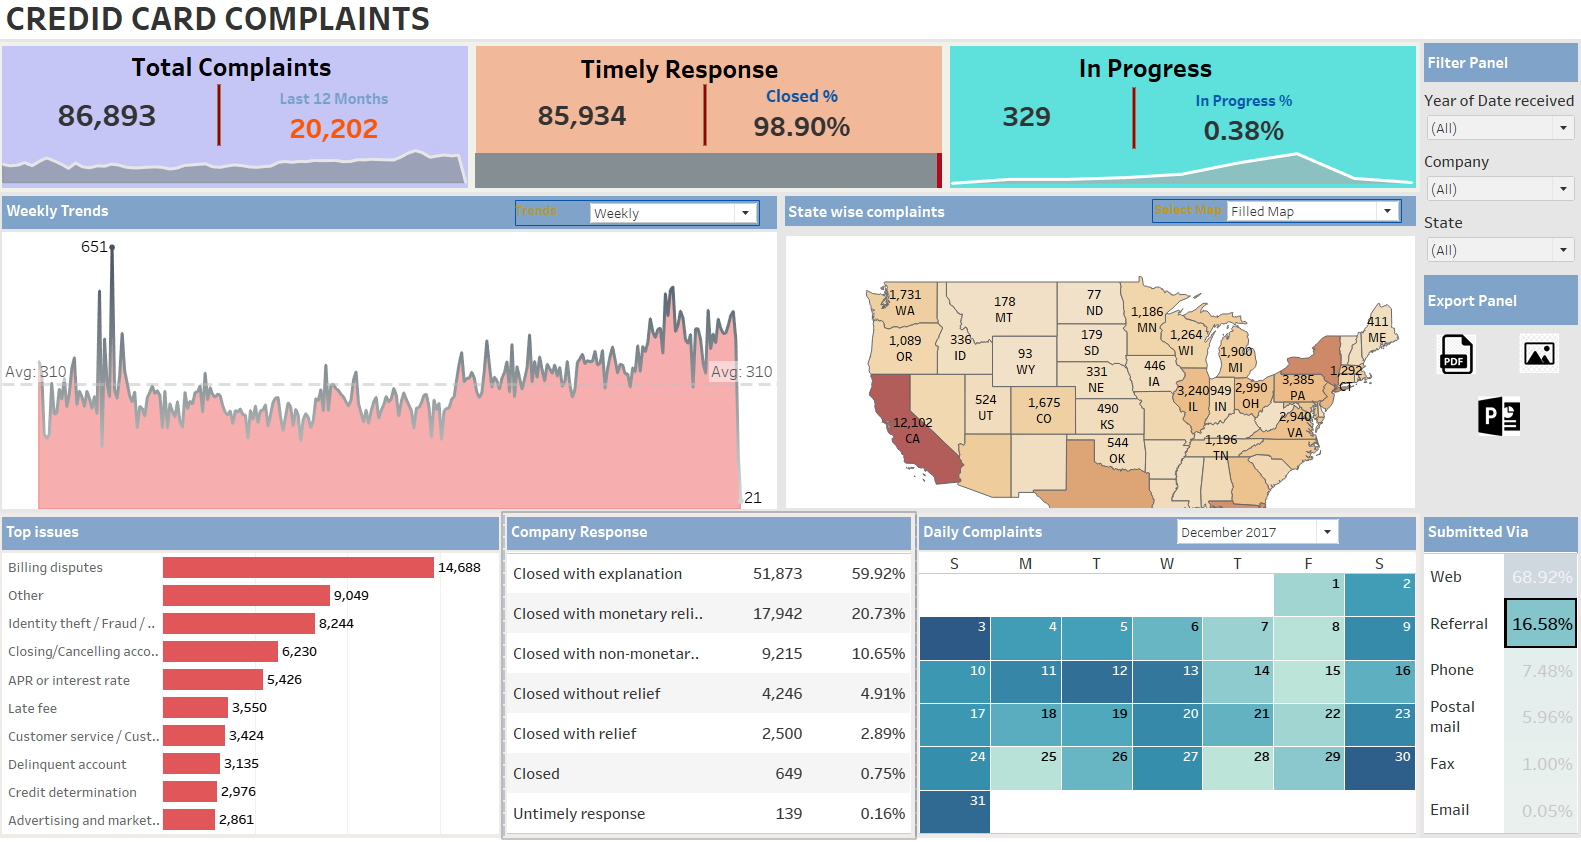

The dashboard page shown, as its layout file describes it:
{"tool":"tableau","page":{"name":"Dashboard 1","canvas":[1600,860],"ordinal":0},"visuals":[{"type":"title","box":[8,8,1422,45]},{"type":"blank","box":[1430,8,162,45]},{"type":"text","box":[1430,53,162,47]},{"type":"blank","box":[8,56,474,150]},{"type":"blank","box":[482,56,474,150]},{"type":"blank","box":[956,56,474,150]},{"type":"text","box":[84,62.1,315,35.4]},{"type":"text","box":[1044,63.1,223,35.4]},{"type":"text","box":[578,64,223,35.4]},{"type":"worksheet","title":"Closed %","mark":"Automatic","box":[741,97.5,142,62.1]},{"type":"blank","box":[227,98.4,4,62.1]},{"type":"blank","box":[713,98.4,4,62.1]},{"type":"filter","title":"Daily Complaints","param":"[federated.10nrtzm0ths3a51fq9lgi0ghdnky].[yr:Date received:ok]","box":[1430,100,162,61]},{"type":"worksheet","title":"Rolling 12 Months Complaints","mark":"Automatic","box":[255,100.3,178,62.1]},{"type":"blank","box":[1142,101.3,4,62.1]},{"type":"worksheet","title":"In Progress %","mark":"Automatic","box":[1181,102.4,146,60.9]},{"type":"worksheet","title":"Total Complaints","mark":"Automatic","box":[38,106.1,158,43]},{"type":"worksheet","title":"Timely Response","mark":"Automatic","box":[527,106.1,130,44]},{"type":"worksheet","title":"In Progress Complaints","mark":"Automatic","box":[988,108.9,97,40.1]},{"type":"worksheet","title":"Progress Bar","mark":"Bar","cols":["Calculation_207728549485891590","Calculation_207728549484265476"],"box":[485,160.5,490,45.9]},{"type":"filter","title":"Company Response","param":"[federated.10nrtzm0ths3a51fq9lgi0ghdnky].[none:Company:nk]","box":[1430,161,162,61]},{"type":"worksheet","title":"In Progress Spark Line","mark":"Area","rows":["Calculation_207728549487292423","Calculation_207728549487292423"],"cols":["Date received"],"box":[937,164.4,509,36.3]},{"type":"worksheet","title":"Trends","mark":"Automatic","rows":["Number of Records","Number of Records"],"cols":["Calculation_615585793418661889"],"box":[8,206.4,782.7,321.1]},{"type":"text","box":[790.7,206.4,639.3,38]},{"type":"parameter","param":"[Parameters].[Parameter 3]","box":[1162,213,250,24]},{"type":"parameter","param":"[Parameters].[Parameter 2]","box":[525,214,245,26]},{"type":"filter","title":"Filled Map","param":"[federated.10nrtzm0ths3a51fq9lgi0ghdnky].[none:State:nk]","box":[1430,222,162,61]},{"type":"worksheet","title":"Density Map","mark":"Heatmap","box":[790.7,244.4,639.3,1]},{"type":"worksheet","title":"Filled Map","mark":"Multipolygon","box":[790.7,245.4,639.3,282.1]},{"type":"text","box":[1430,285.4,162,58]},{"type":"blank","box":[1430,343.4,162,184]},{"type":"dashboard-object","box":[1521,346.9,56,40.1]},{"type":"dashboard-object","box":[1438,347.8,56,40.1]},{"type":"dashboard-object","box":[1481,409.9,56,40.1]},{"type":"worksheet","title":"Submitted Via","mark":"Square","rows":["Submitted via"],"box":[1430,527.4,162,324.6]},{"type":"worksheet","title":"Top issues","mark":"Automatic","rows":["Issue"],"cols":["Number of Records"],"box":[8,527.5,505,324.5]},{"type":"worksheet","title":"Company Response","mark":"Automatic","rows":["Company response to consumer"],"box":[513,527.5,412,324.5]},{"type":"worksheet","title":"Daily Complaints","mark":"Square","rows":["Date received"],"cols":["Date received"],"box":[925,527.5,505,324.5]},{"type":"filter","title":"Daily Complaints","param":"[federated.10nrtzm0ths3a51fq9lgi0ghdnky].[my:Date received:ok]","box":[1184,530.3,168,30.6]}]}

Visuals, with their boxes in screenshot pixels (x1, y1, x2, y2), scaled from the page's 1600x860 canvas onto the 1581x842 screenshot:
title: rect(8, 8, 1413, 52)
blank: rect(1413, 8, 1573, 52)
text: rect(1413, 52, 1573, 98)
blank: rect(8, 55, 476, 202)
blank: rect(476, 55, 945, 202)
blank: rect(945, 55, 1413, 202)
text: rect(83, 61, 394, 95)
text: rect(1032, 62, 1252, 96)
text: rect(571, 63, 791, 97)
"Closed %" worksheet: rect(732, 95, 873, 156)
blank: rect(224, 96, 228, 157)
blank: rect(705, 96, 708, 157)
"Daily Complaints" filter: rect(1413, 98, 1573, 158)
"Rolling 12 Months Complaints" worksheet: rect(252, 98, 428, 159)
blank: rect(1128, 99, 1132, 160)
"In Progress %" worksheet: rect(1167, 100, 1311, 160)
"Total Complaints" worksheet: rect(38, 104, 194, 146)
"Timely Response" worksheet: rect(521, 104, 649, 147)
"In Progress Complaints" worksheet: rect(976, 107, 1072, 146)
"Progress Bar" worksheet (Bar marks): rect(479, 157, 963, 202)
"Company Response" filter: rect(1413, 158, 1573, 217)
"In Progress Spark Line" worksheet (Area marks): rect(926, 161, 1429, 196)
"Trends" worksheet: rect(8, 202, 781, 516)
text: rect(781, 202, 1413, 239)
parameter: rect(1148, 209, 1395, 232)
parameter: rect(519, 210, 761, 235)
"Filled Map" filter: rect(1413, 217, 1573, 277)
"Density Map" worksheet (Heatmap marks): rect(781, 239, 1413, 240)
"Filled Map" worksheet (Multipolygon marks): rect(781, 240, 1413, 516)
text: rect(1413, 279, 1573, 336)
blank: rect(1413, 336, 1573, 516)
dashboard-object: rect(1503, 340, 1558, 379)
dashboard-object: rect(1421, 341, 1476, 380)
dashboard-object: rect(1463, 401, 1519, 441)
"Submitted Via" worksheet (Square marks): rect(1413, 516, 1573, 834)
"Top issues" worksheet: rect(8, 516, 507, 834)
"Company Response" worksheet: rect(507, 516, 914, 834)
"Daily Complaints" worksheet (Square marks): rect(914, 516, 1413, 834)
"Daily Complaints" filter: rect(1170, 519, 1336, 549)
